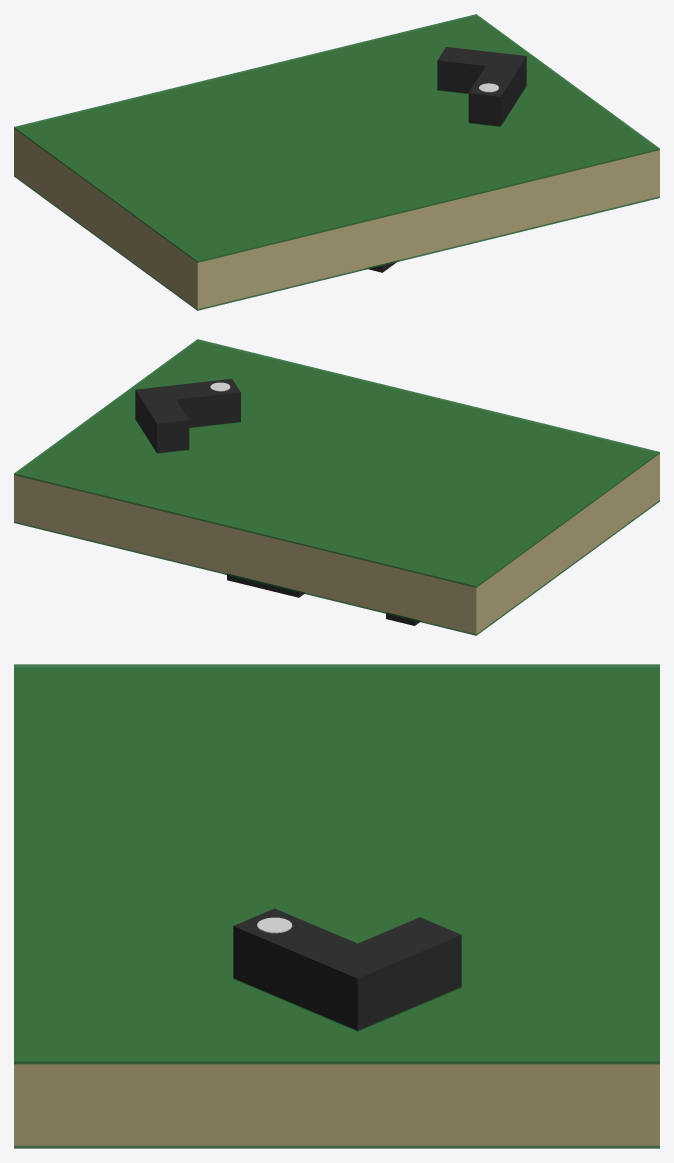
File: bottom-placement.glb
3 renders of one model, top to bottom at view 1: azimuth 30°, elevation 25°; view 2: azimuth 150°, elevation 25°; view 3: azimuth 270°, elevation 25°, orthographic. The views are drawn at different scales.
Parts seen in each view (by area): view 1: layer/@soldermask-top, layer/@core, U5, layer/@soldermask-bottom; view 2: layer/@soldermask-top, layer/@core, U5, layer/@soldermask-bottom, U4; view 3: layer/@soldermask-top, layer/@core, U5, layer/@soldermask-bottom.
Boxes of the visible parts, x1=… form: layer/@soldermask-top: x1=14, y1=14, x2=659, y2=262; layer/@core: x1=14, y1=16, x2=659, y2=309; U5: x1=437, y1=47, x2=526, y2=126; layer/@soldermask-bottom: x1=14, y1=175, x2=659, y2=310; layer/@soldermask-top: x1=14, y1=339, x2=659, y2=587; layer/@core: x1=14, y1=342, x2=659, y2=634; U5: x1=135, y1=378, x2=240, y2=453; layer/@soldermask-bottom: x1=14, y1=500, x2=659, y2=635; U4: x1=227, y1=575, x2=303, y2=597; layer/@soldermask-top: x1=14, y1=664, x2=659, y2=1064; layer/@core: x1=14, y1=668, x2=659, y2=1145; U5: x1=233, y1=908, x2=461, y2=1030; layer/@soldermask-bottom: x1=14, y1=1145, x2=659, y2=1148.
Bounding box in the file's own units: 0.016 × 0.00364 × 0.011.
